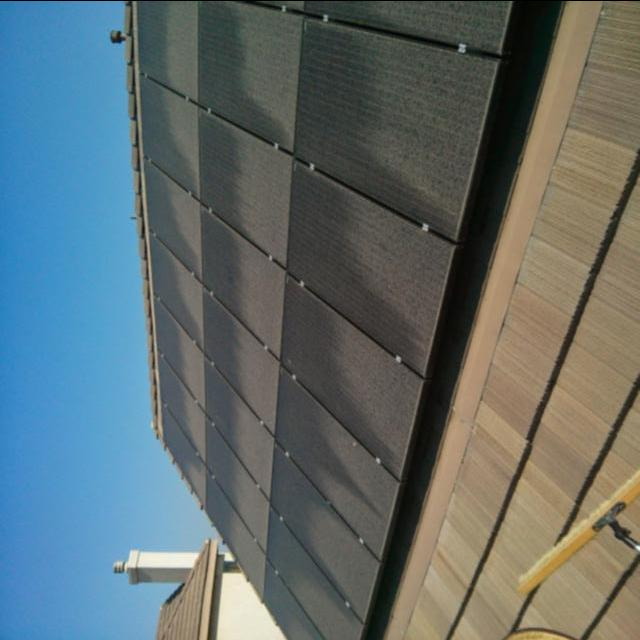soiled: (153, 0, 506, 630)
